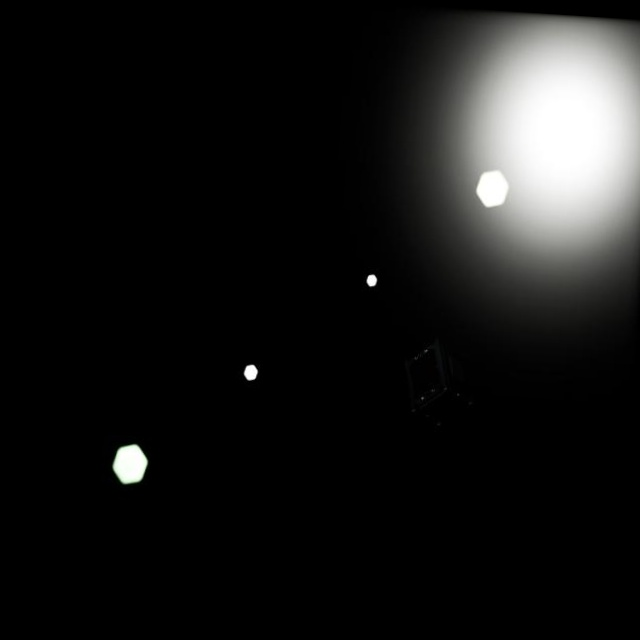satellite: (401, 331, 486, 427)
